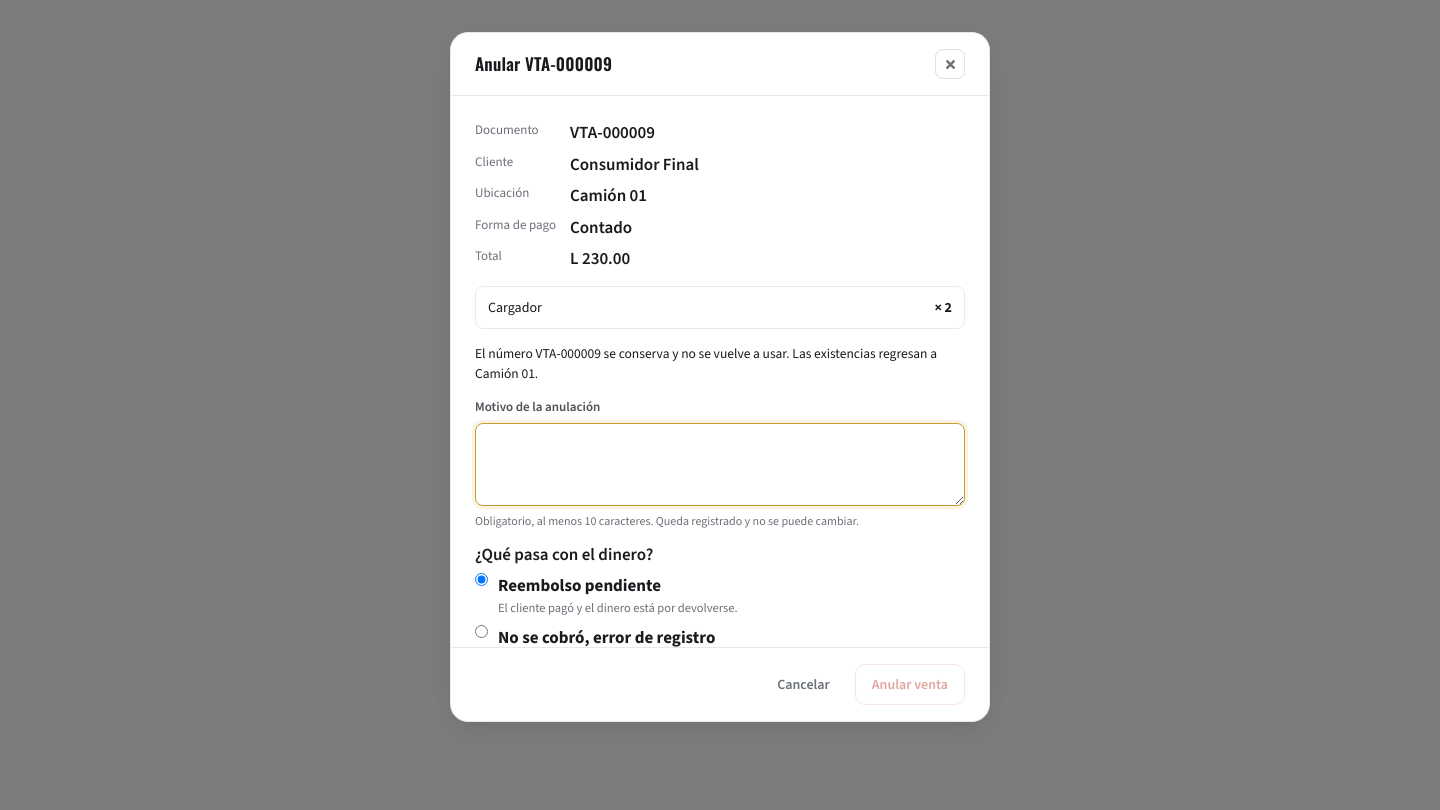
Test: antes de confirmar › no deja confirmar con un motivo de menos de 10 caracteres sin contar los espacios
Expected: the button "Anular venta" is disabled, [855,664,965,705]
Type "   corto    " into the text box labelled "Motivo de la anulación" at (720, 464), box [475,422,965,506]
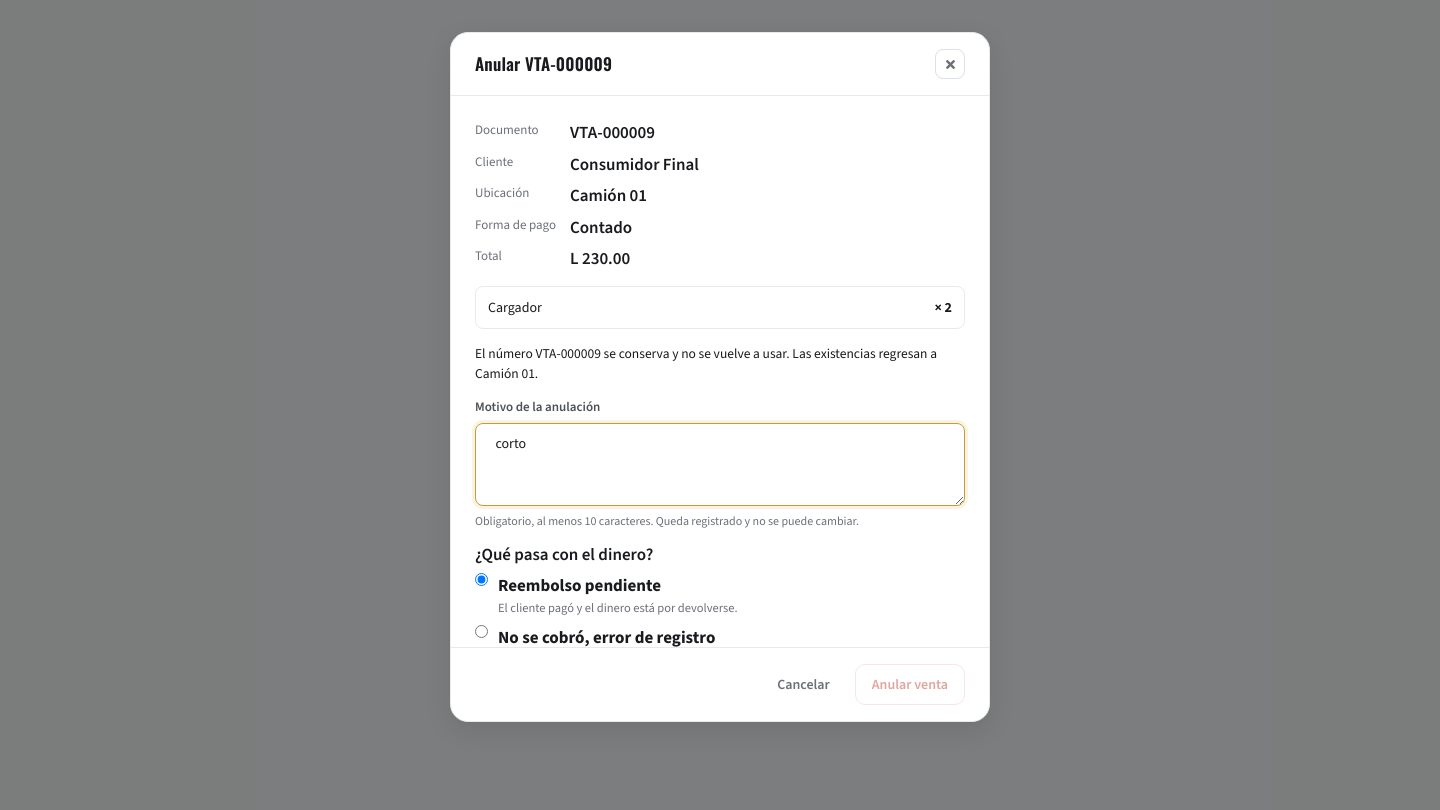
Expected: the button "Anular venta" is disabled, [855,664,965,705]
Replace the text in the text box labelled "Motivo de la anulación" with "Se registró dos veces" at (720, 464), box [475,422,965,506]
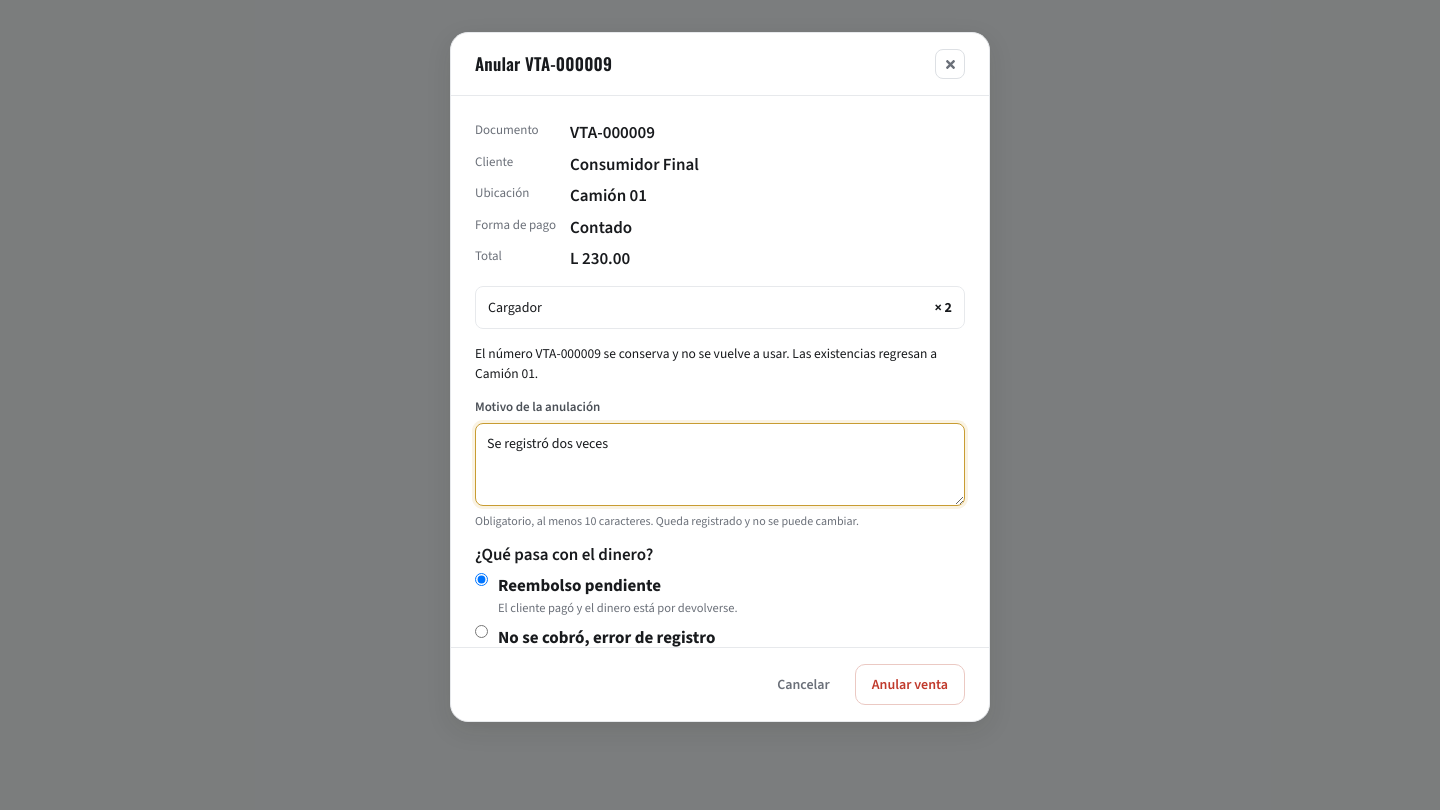
Expected: the button "Anular venta" is enabled, [855,664,965,705]
